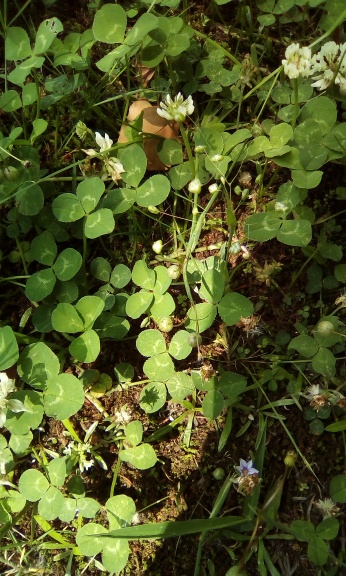4leaf: (124, 260, 176, 319)
